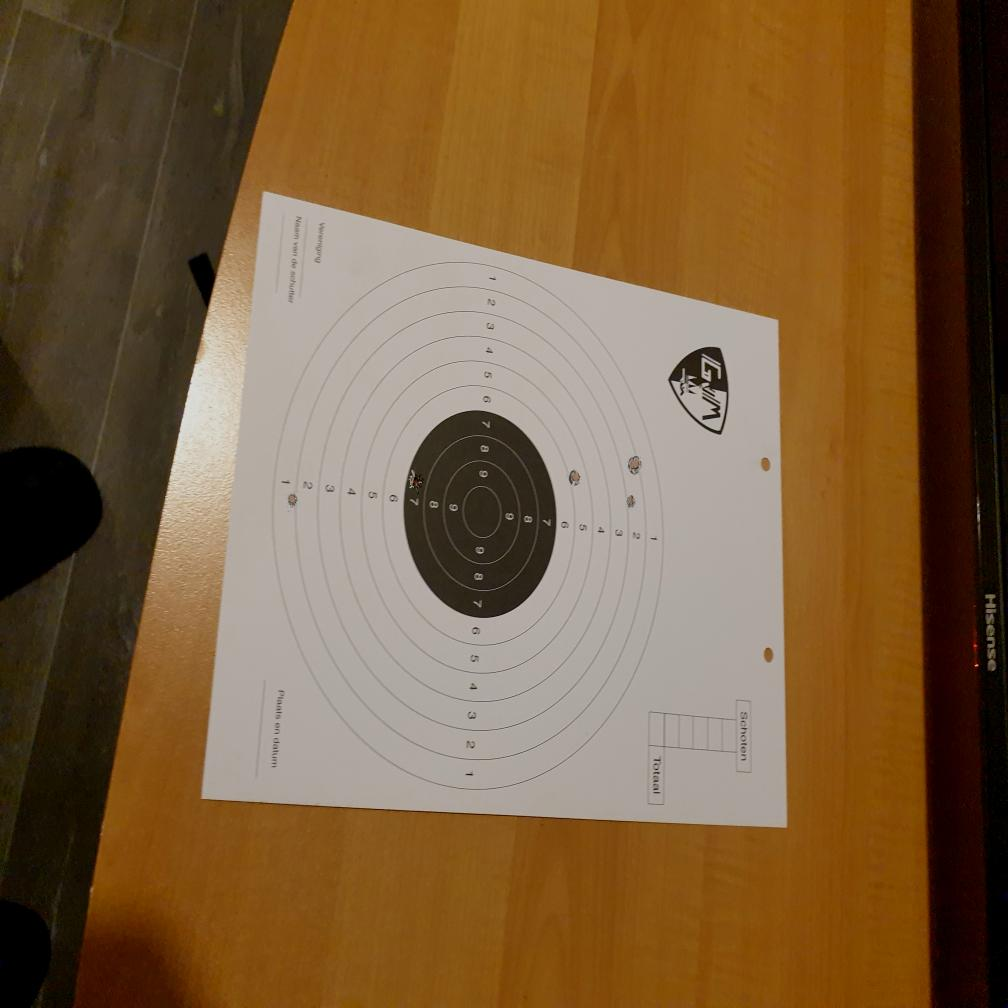2: (627, 454, 642, 476), (286, 492, 299, 512)
3: (626, 494, 637, 513)
6: (567, 469, 581, 487)
7: (407, 470, 424, 495)
Target: (272, 262, 666, 791)
black_contour: (403, 410, 556, 618)
